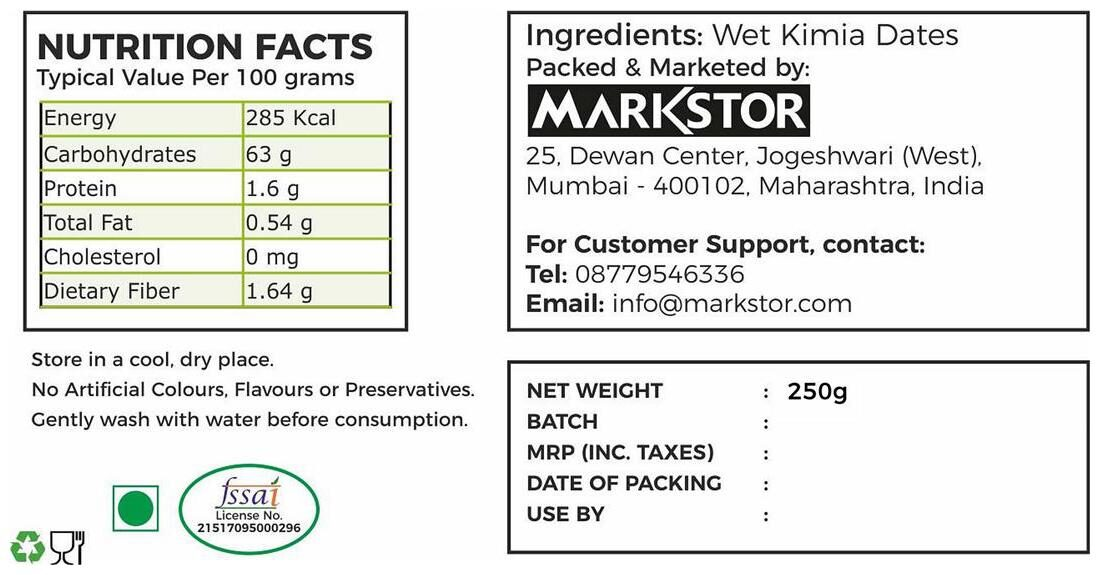fssai: (213, 475, 284, 510)
